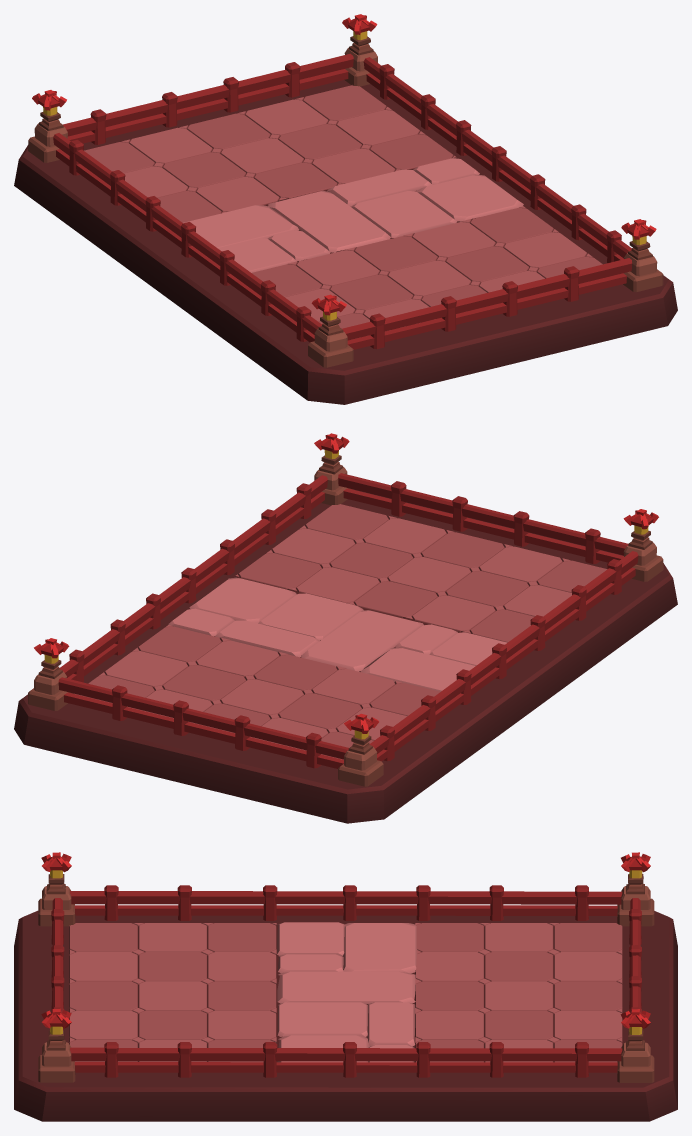
3 views of the same model, one above another, from view 1: azimuth 30°, elevation 25°; view 2: azimuth 150°, elevation 25°; view 3: azimuth 270°, elevation 25° (orthographic). The views are drawn at different scales.
Parts seen in each view (by area): view 1: Map05_Platform; view 2: Map05_Platform; view 3: Map05_Platform.
Part boxes in pixels (x1,y1,x2,y2): Map05_Platform: (14, 14, 677, 404); Map05_Platform: (14, 433, 677, 823); Map05_Platform: (14, 852, 677, 1121).
Bounding box in the file's own units: 12.79 × 3.03 × 19.18.
Materials: 2 (2 with a texture image).
